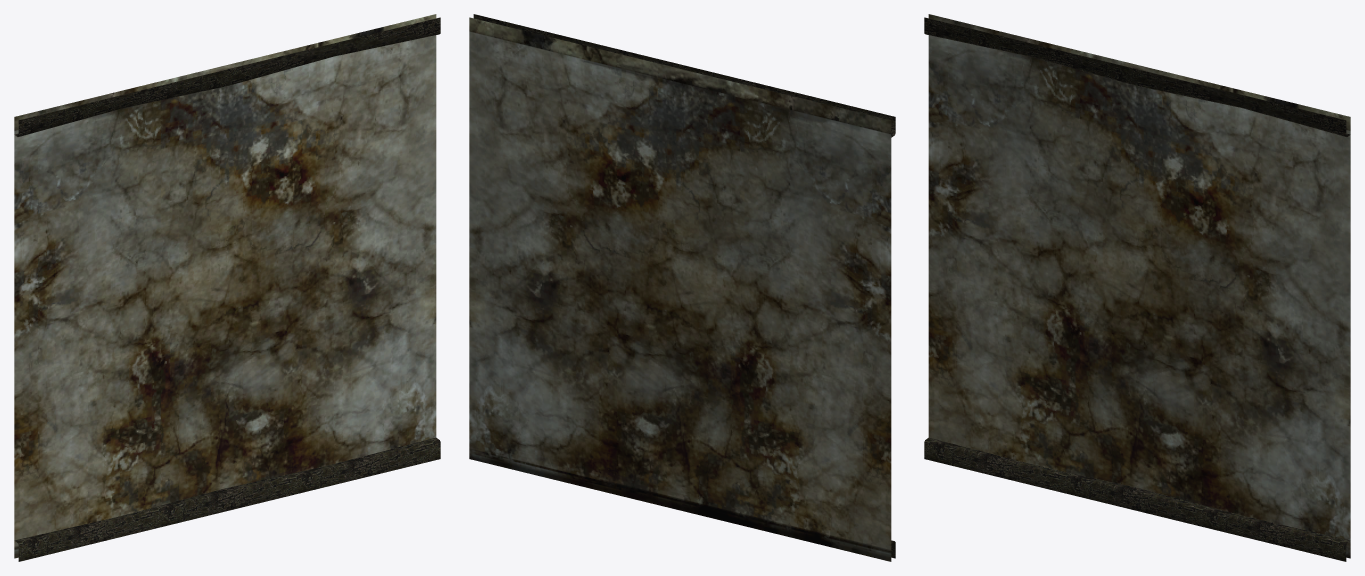
File: cellar_wall_05.DAE
The picture shows the model from 3 angles, left to right: view 1: azimuth 30°, elevation 25°; view 2: azimuth 150°, elevation 25°; view 3: azimuth 330°, elevation 25°; orthographic projection.
Parts seen in each view (by area): view 1: Box012, Box011; view 2: Box012, Box011; view 3: Box012, Box011.
Boxes of the visible parts, x1,y1,x2,y2 form: Box012: [14, 14, 436, 558]; Box011: [14, 17, 440, 561]; Box012: [469, 17, 891, 561]; Box011: [473, 14, 895, 558]; Box012: [928, 14, 1350, 558]; Box011: [924, 17, 1350, 561].
Size of the model in its own units: 4 by 4 by 0.0821.
